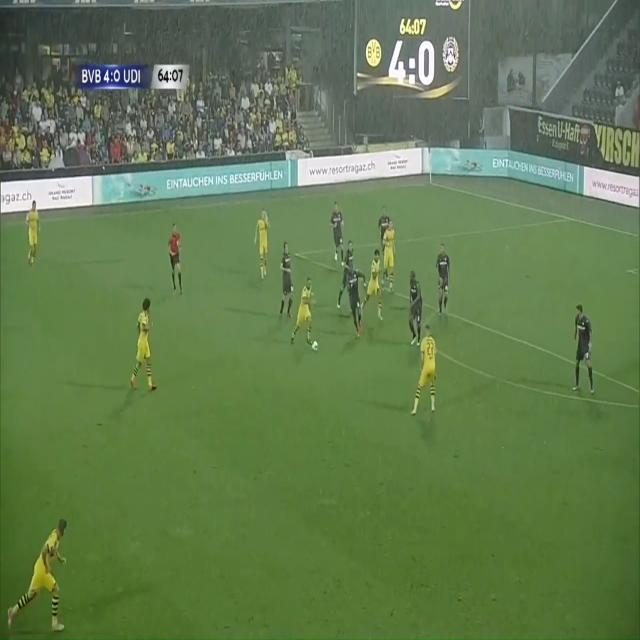ball: (311, 334, 321, 363)
player: (5, 501, 74, 640), (123, 278, 161, 403), (565, 290, 604, 406), (412, 326, 446, 428), (361, 246, 385, 339), (249, 204, 273, 290), (292, 275, 316, 348), (277, 236, 297, 323), (403, 266, 422, 354), (22, 197, 46, 266), (346, 256, 364, 346), (338, 231, 354, 323), (434, 240, 452, 318), (383, 219, 397, 302), (331, 196, 347, 266), (376, 199, 390, 254)
referee: (163, 221, 189, 298)
